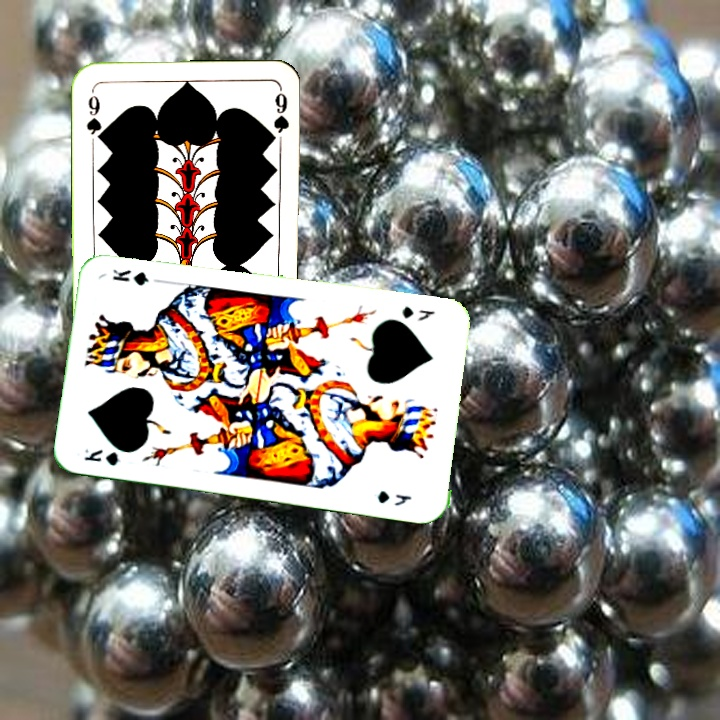G9: (82, 86, 105, 145)
GK: (80, 445, 122, 468), (398, 302, 437, 323)
